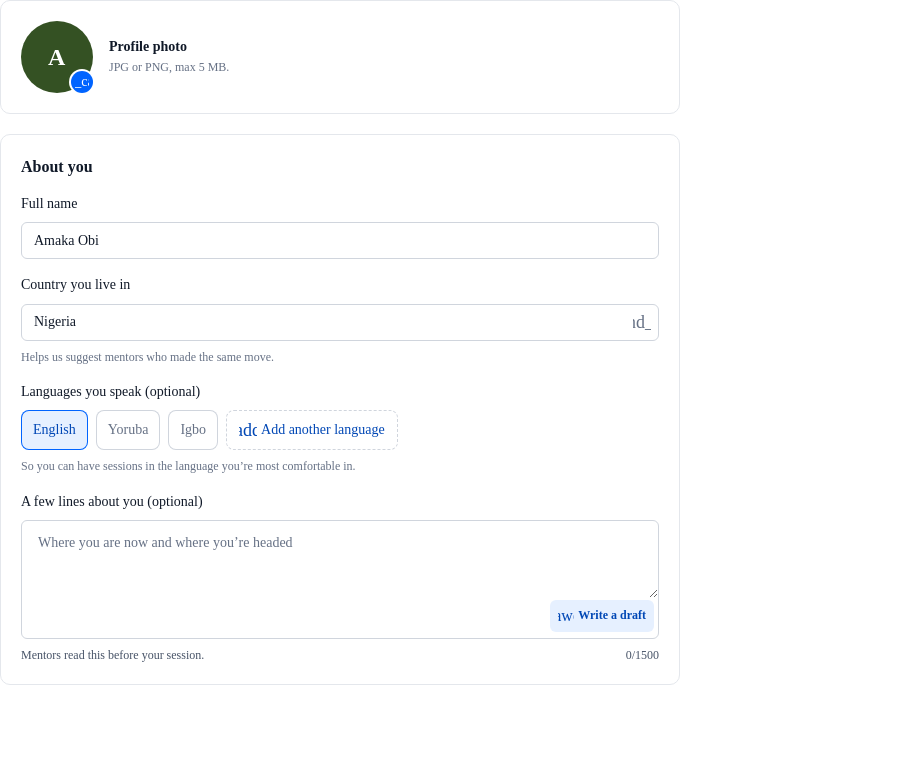
Scenario: ProfilePanel › Save sends the change and says "Profile saved"; the bar goes
The width and height of the screenshot is (902, 768).
Click the button "Igbo" at {"x": 193, "y": 430}, box top-left (168, 410), bottom-right (218, 450)
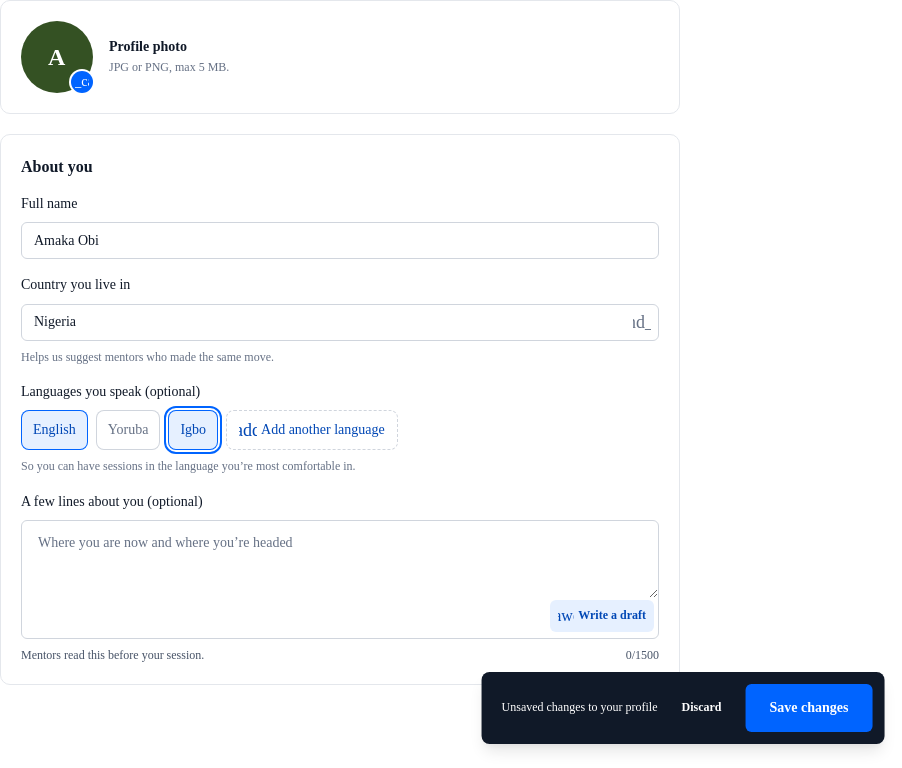
Click the button "Save changes" at {"x": 809, "y": 708}, box top-left (746, 684), bottom-right (872, 732)
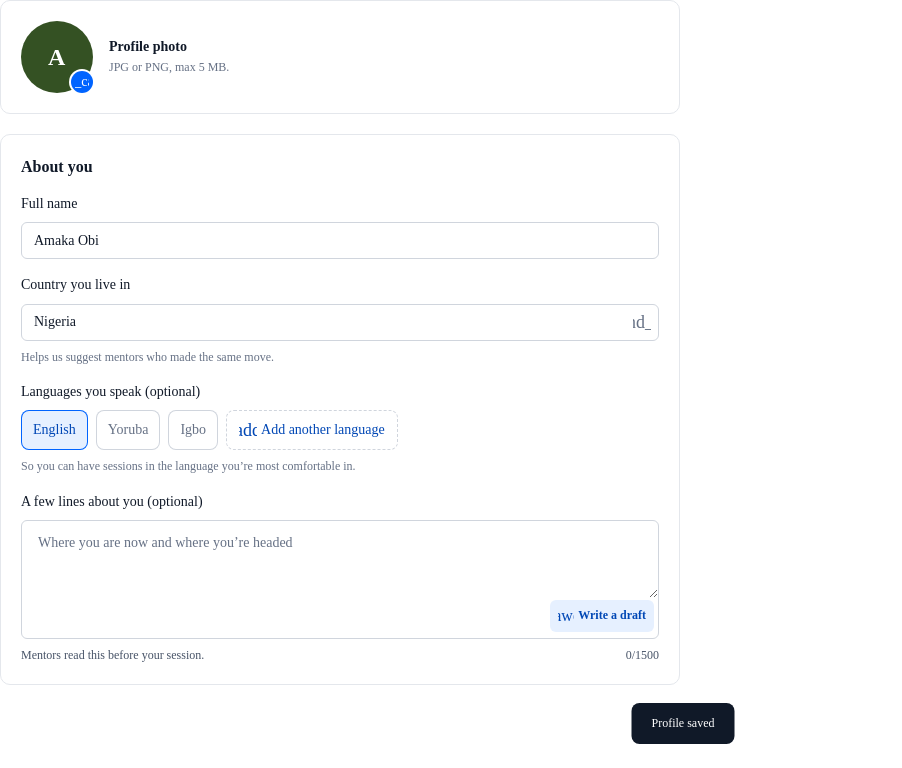
Check: the text "Profile saved" is shown, box top-left (632, 703), bottom-right (734, 744)
Check: the text "Unsaved changes" is gone
